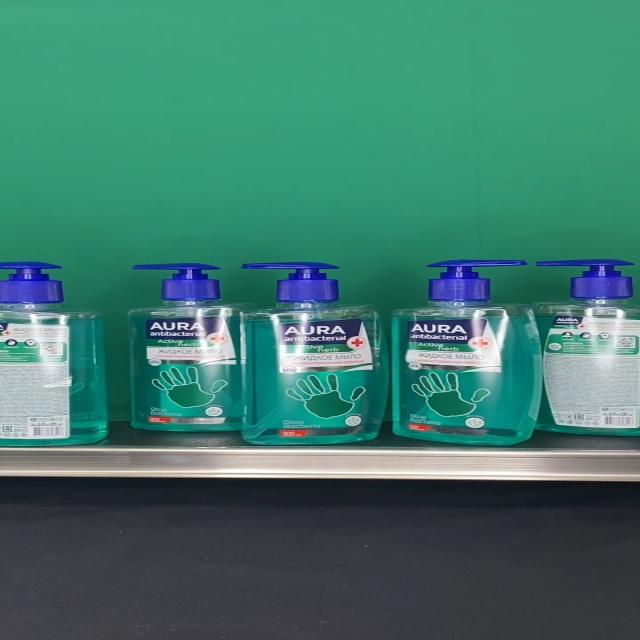Bottle: (392, 258, 542, 444), (240, 263, 389, 445), (129, 263, 260, 432), (0, 260, 108, 444), (533, 259, 640, 436)
Cap: (426, 259, 525, 302), (536, 259, 635, 299), (241, 262, 339, 300), (132, 264, 220, 300), (0, 261, 66, 303)
